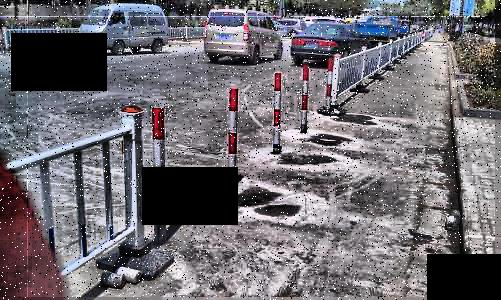bench: (145, 103, 174, 243), (221, 81, 244, 184), (270, 65, 283, 153)
